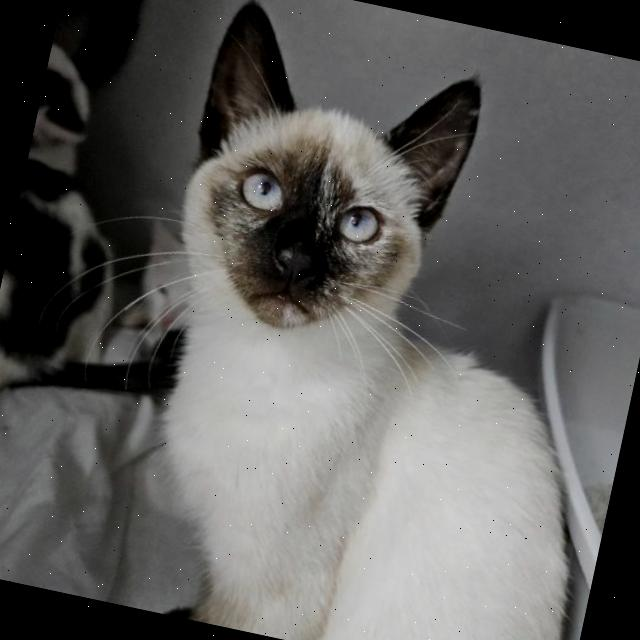siamese_cat: (132, 0, 525, 435)
